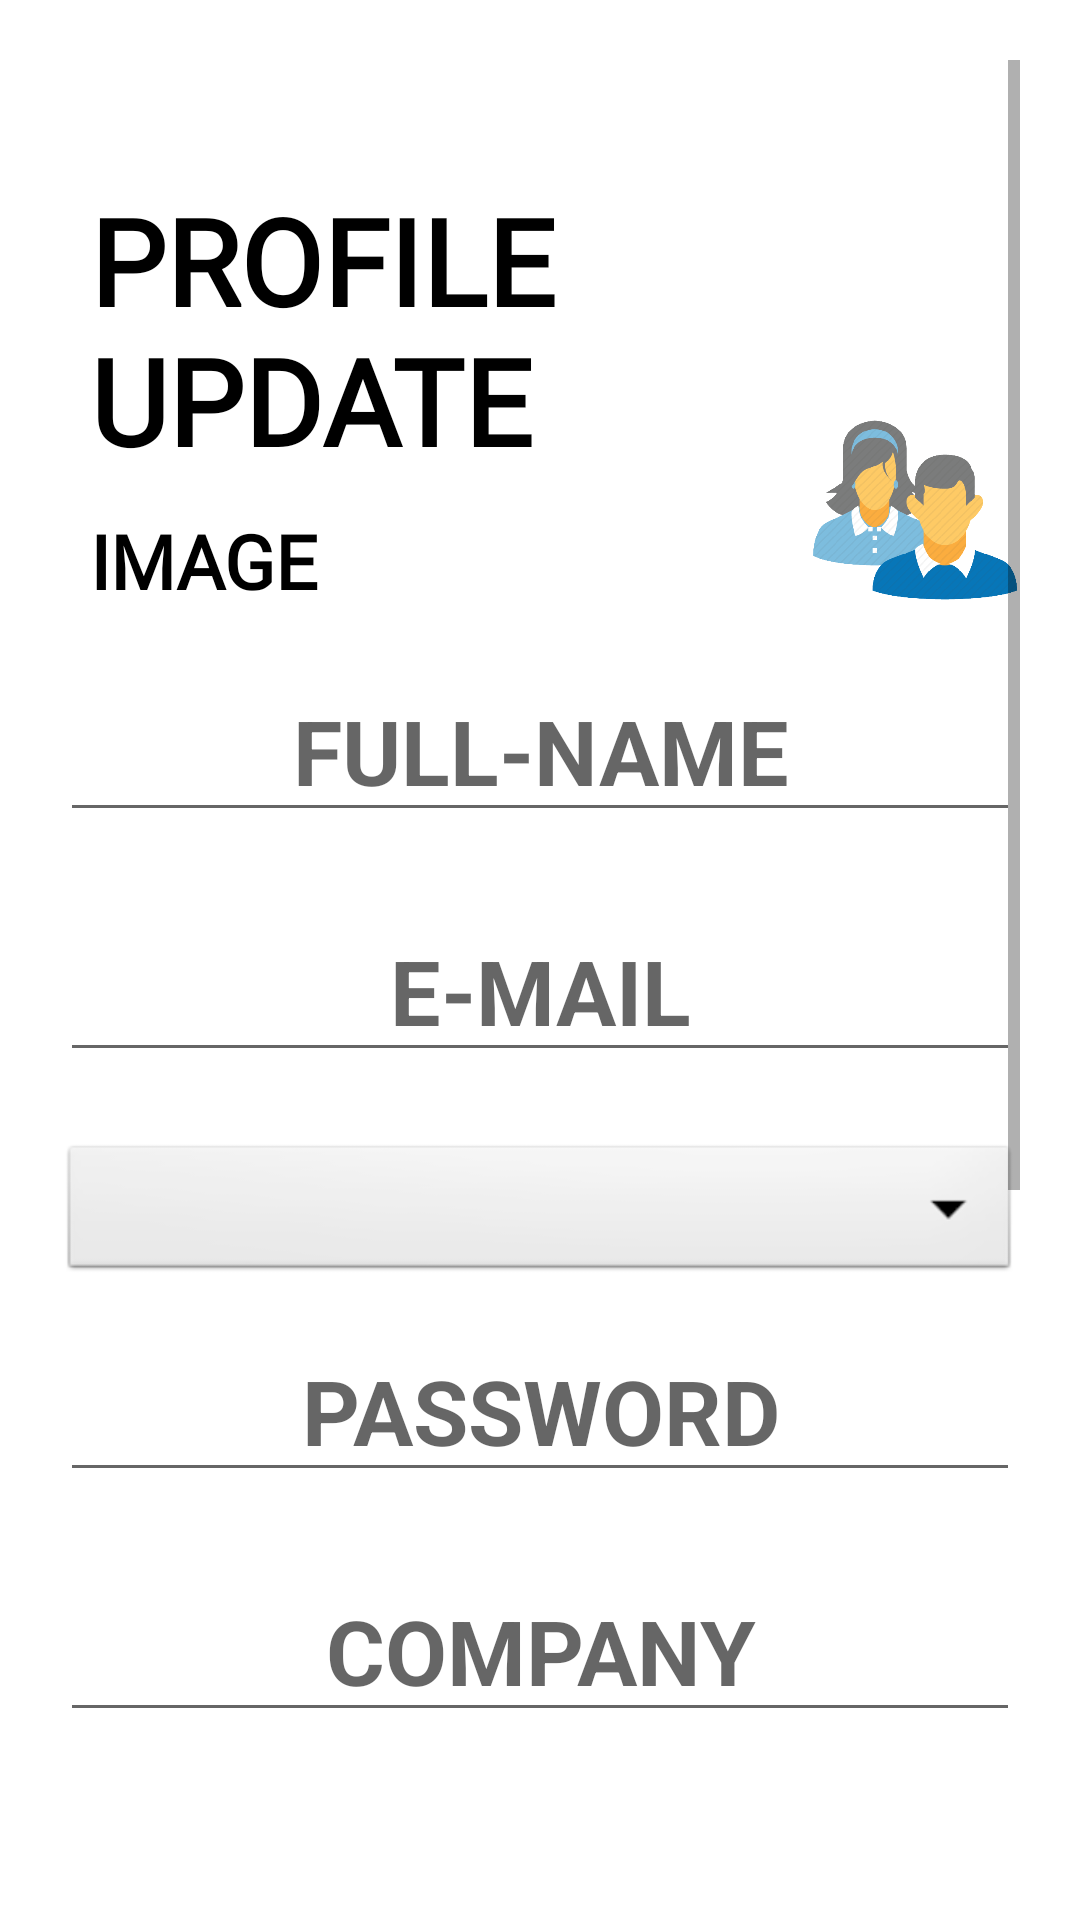

Where icons sit on this 1080*1920 app screen, as BBox(x1, y1, x2, y2):
clients profile: BBox(813, 360, 1020, 660)
